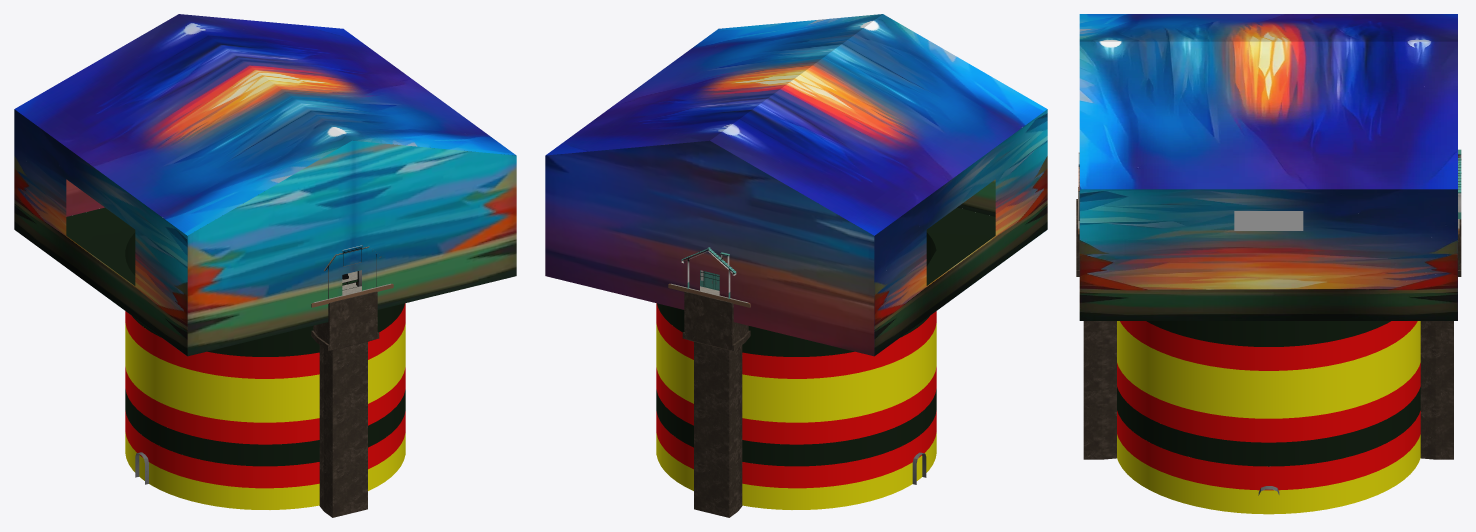
Rendered from arena.glb.
3 views of the same model, side by side, from view 1: azimuth 30°, elevation 25°; view 2: azimuth 150°, elevation 25°; view 3: azimuth 270°, elevation 25° (orthographic). The views are drawn at different scales.
Visible parts, largest first — view 1: Object_15_WallMap_0, Object_16_RoofMap_0, Object_13_WallRed_0, Object_14_WallYellow_0, Object_10_FloorGreen_0, Object_6_RockPillar_0; view 2: Object_15_WallMap_0, Object_16_RoofMap_0, Object_13_WallRed_0, Object_14_WallYellow_0, Object_10_FloorGreen_0, Object_9_RockPillar_0, Object_29.001_Frame8Mtl_0; view 3: Object_16_RoofMap_0, Object_15_WallMap_0, Object_14_WallYellow_0, Object_13_WallRed_0, Object_10_FloorGreen_0, Object_6_RockPillar_0, Object_9_RockPillar_0, Object_20_Timer_0.
Part boxes in pixels (x1,y1,x2,y2): Object_15_WallMap_0: (14,109,516,356); Object_16_RoofMap_0: (14,14,516,235); Object_13_WallRed_0: (125,303,405,488); Object_14_WallYellow_0: (125,323,405,509); Object_10_FloorGreen_0: (66,207,405,466); Object_6_RockPillar_0: (311,291,379,517); Object_15_WallMap_0: (545,109,1047,356); Object_16_RoofMap_0: (545,14,1047,235); Object_13_WallRed_0: (656,303,936,488); Object_14_WallYellow_0: (656,323,936,509); Object_10_FloorGreen_0: (656,207,995,466); Object_9_RockPillar_0: (682,291,750,517); Object_29.001_Frame8Mtl_0: (681,249,736,298); Object_16_RoofMap_0: (1079,14,1457,189); Object_15_WallMap_0: (1079,189,1457,320); Object_14_WallYellow_0: (1117,321,1420,514); Object_13_WallRed_0: (1117,321,1420,490); Object_10_FloorGreen_0: (1117,321,1420,466); Object_6_RockPillar_0: (1076,199,1116,459); Object_9_RockPillar_0: (1420,219,1461,459); Object_20_Timer_0: (1234,211,1303,230).
Bounding box in the file's own units: 64.6 × 70.11 × 59.91.
39 materials, 22 textured.
